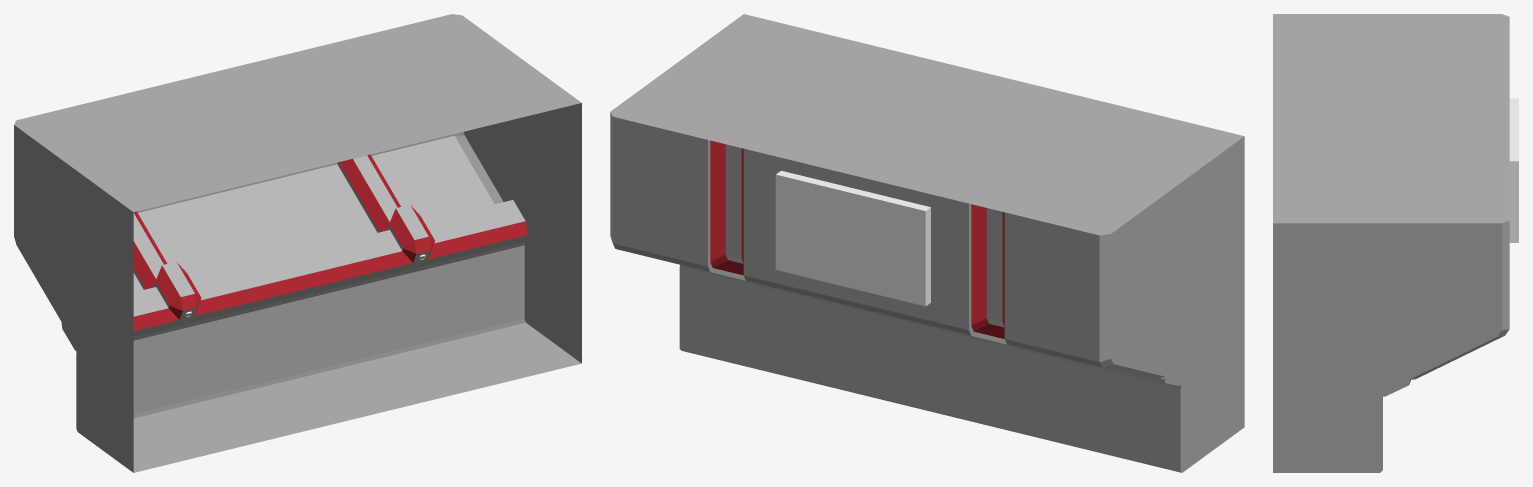
Rendered from room00.glb.
The picture shows the model from 3 angles, left to right: view 1: azimuth 30°, elevation 25°; view 2: azimuth 150°, elevation 25°; view 3: azimuth 270°, elevation 25°; orthographic projection. The views are drawn at different scales.
Parts seen in each view (by area): view 1: Room00; view 2: Room00; view 3: Room00.
Boxes of the visible parts, <box> form: Room00: <box>14,14,581,472</box>; Room00: <box>610,14,1244,472</box>; Room00: <box>1273,14,1518,472</box>.
Bounding box in the file's own units: 18 × 10 × 8.92.
1 material, 1 textured.
